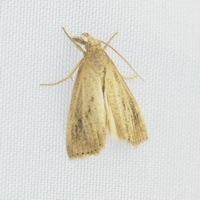insect: (41, 27, 147, 157)
